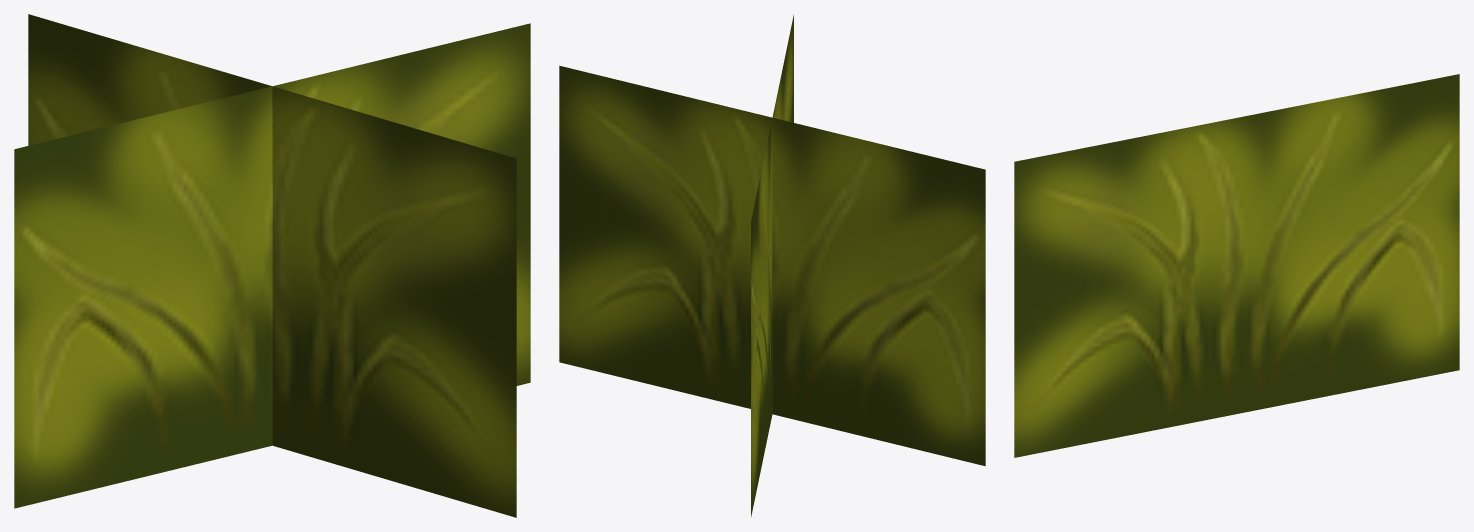
Rendered from common_reed.FBX.
The picture shows the model from 3 angles, left to right: view 1: azimuth 30°, elevation 25°; view 2: azimuth 150°, elevation 25°; view 3: azimuth 270°, elevation 25°; orthographic projection. The views are drawn at different scales.
Visible parts, largest first — view 1: common_reed; view 2: common_reed; view 3: common_reed.
Part boxes in pixels (x1,y1,x2,y2): common_reed: (14, 14, 530, 517); common_reed: (559, 15, 985, 516); common_reed: (1014, 74, 1459, 457).
Bounding box in the file's own units: 18.12 × 12.05 × 16.42.
